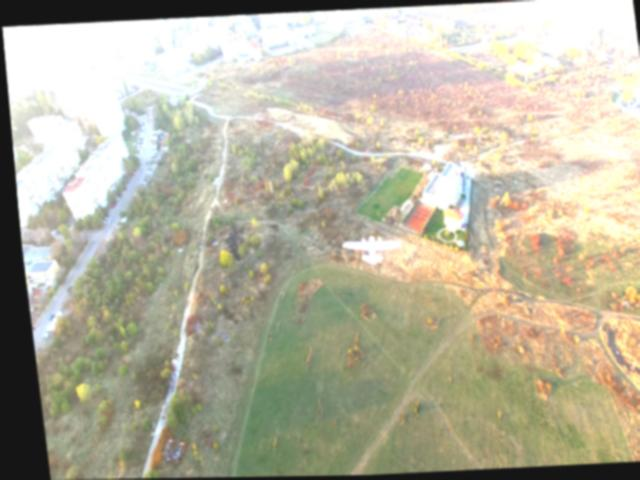plane: (336, 236, 398, 267)
